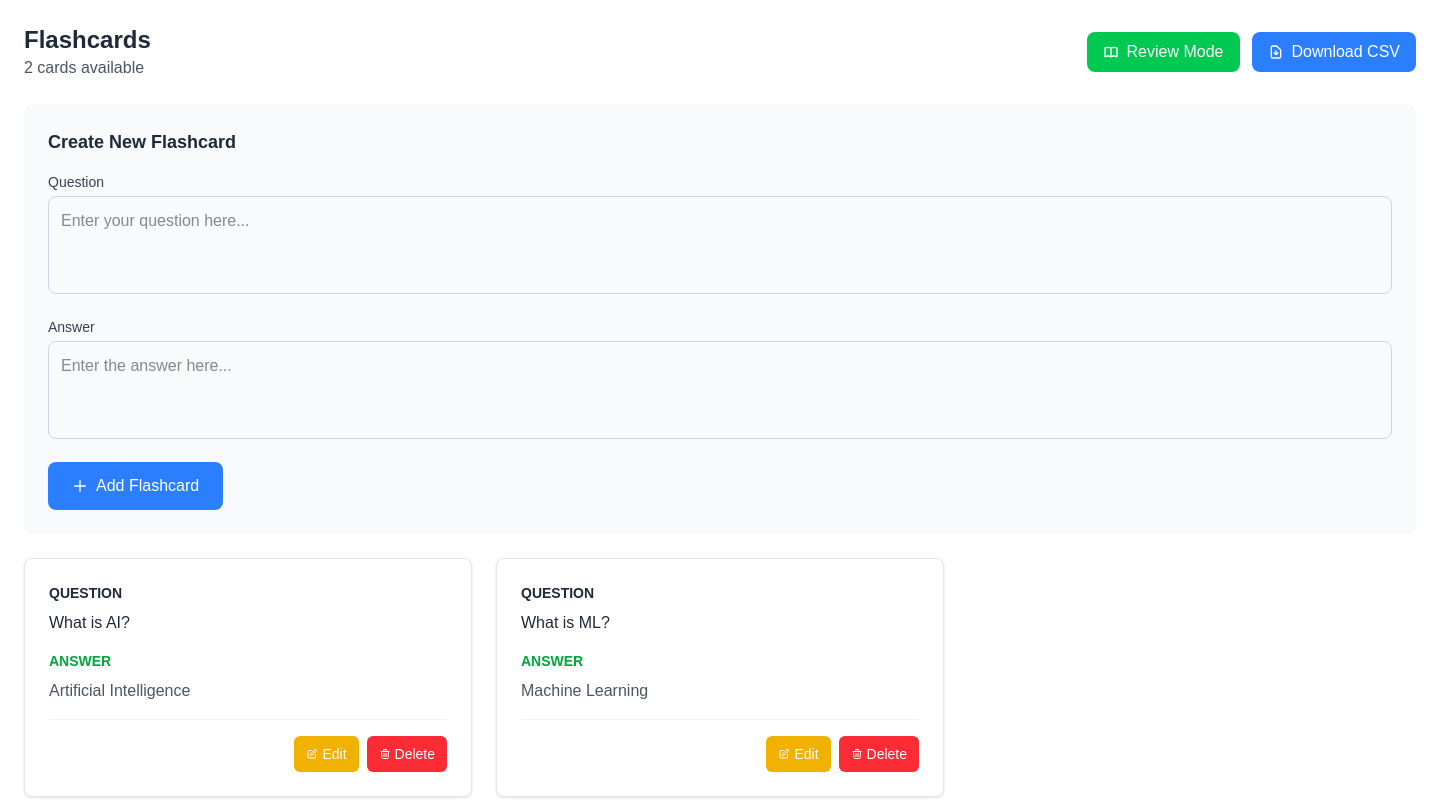
it: FlashcardsTab Component › flips flashcard in review mode
This screenshot has width=1440, height=810.
Click the button "Review Mode".
click(1163, 52)  # box [1087, 32, 1240, 72]
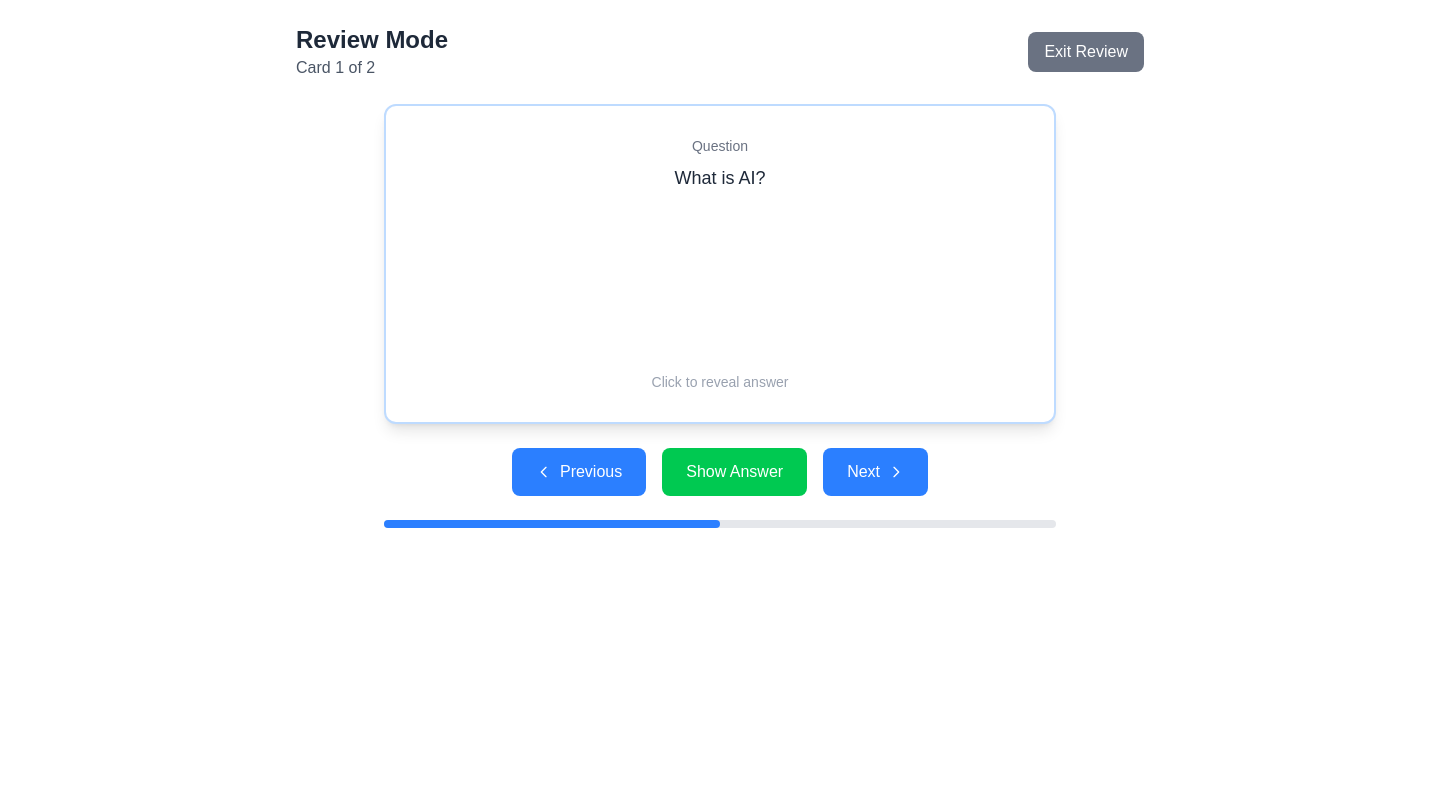
Click the text "What is AI?".
click(720, 178)  # box [674, 168, 766, 188]
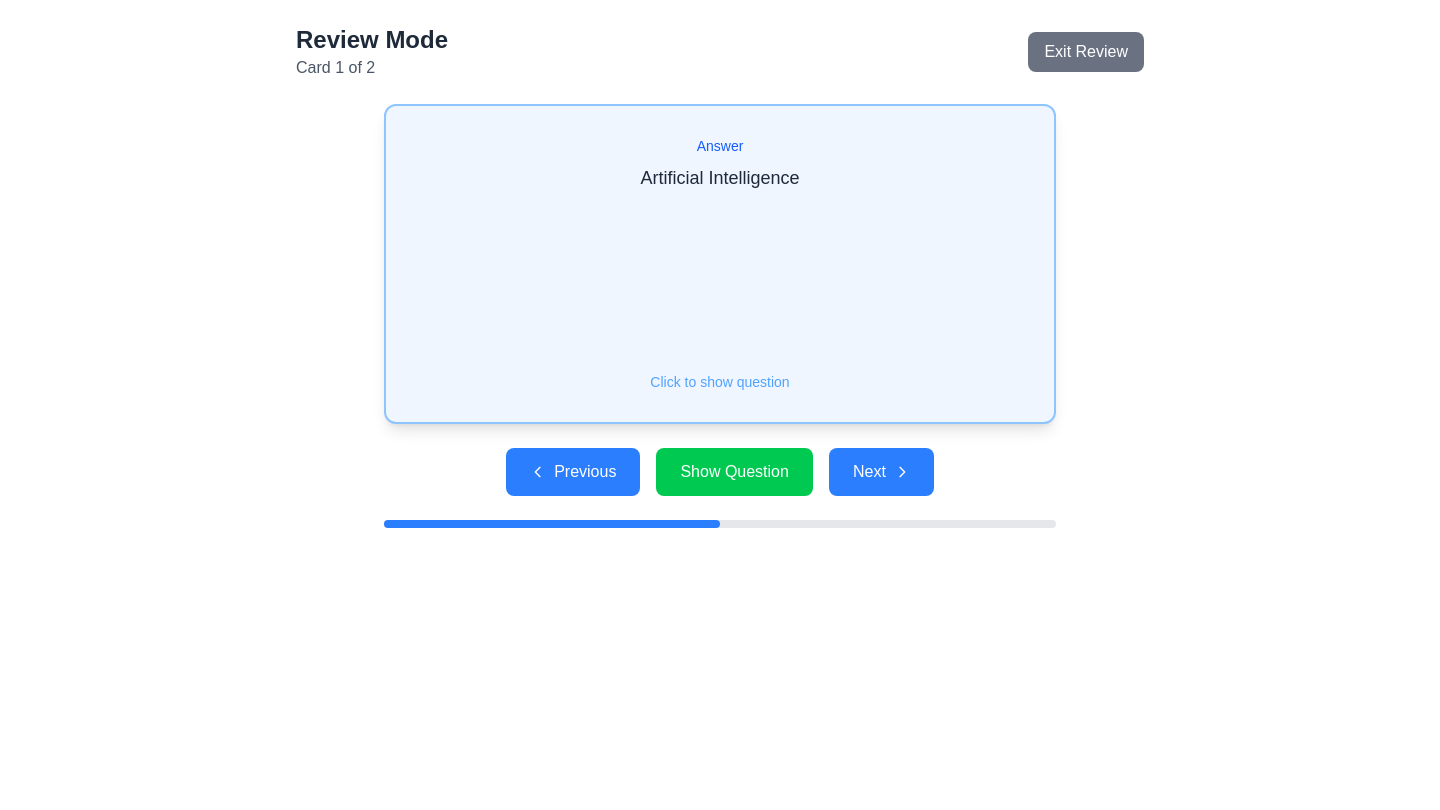
Expected: the text "Artificial Intelligence" is shown, [640, 168, 800, 188]
